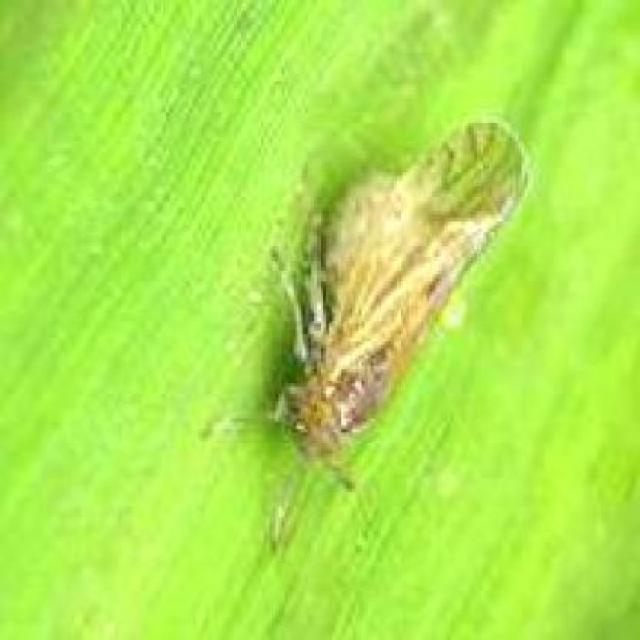brown-planthopper: (255, 108, 547, 497)
